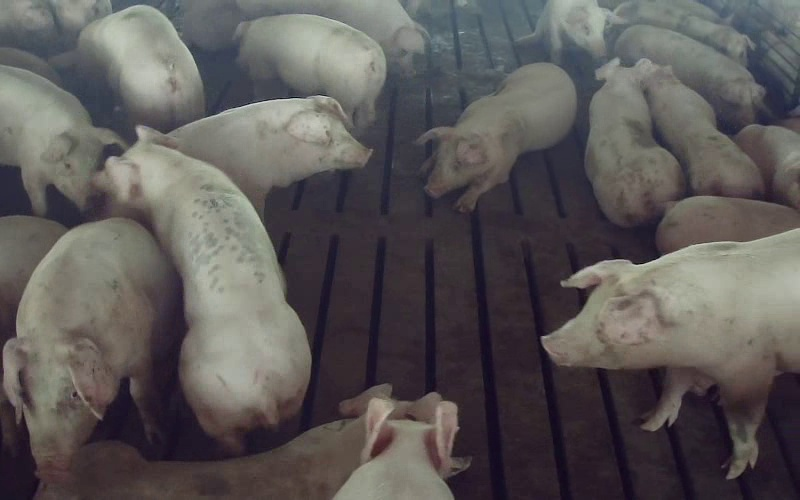pig: (95, 126, 310, 451), (543, 229, 799, 477), (37, 385, 441, 499), (4, 218, 175, 481), (170, 96, 371, 217), (416, 63, 576, 211), (235, 14, 385, 126), (585, 58, 685, 226), (644, 65, 764, 198), (78, 5, 204, 131), (614, 25, 765, 130), (614, 0, 754, 65), (656, 196, 799, 253), (517, 0, 609, 63), (734, 124, 799, 209)
